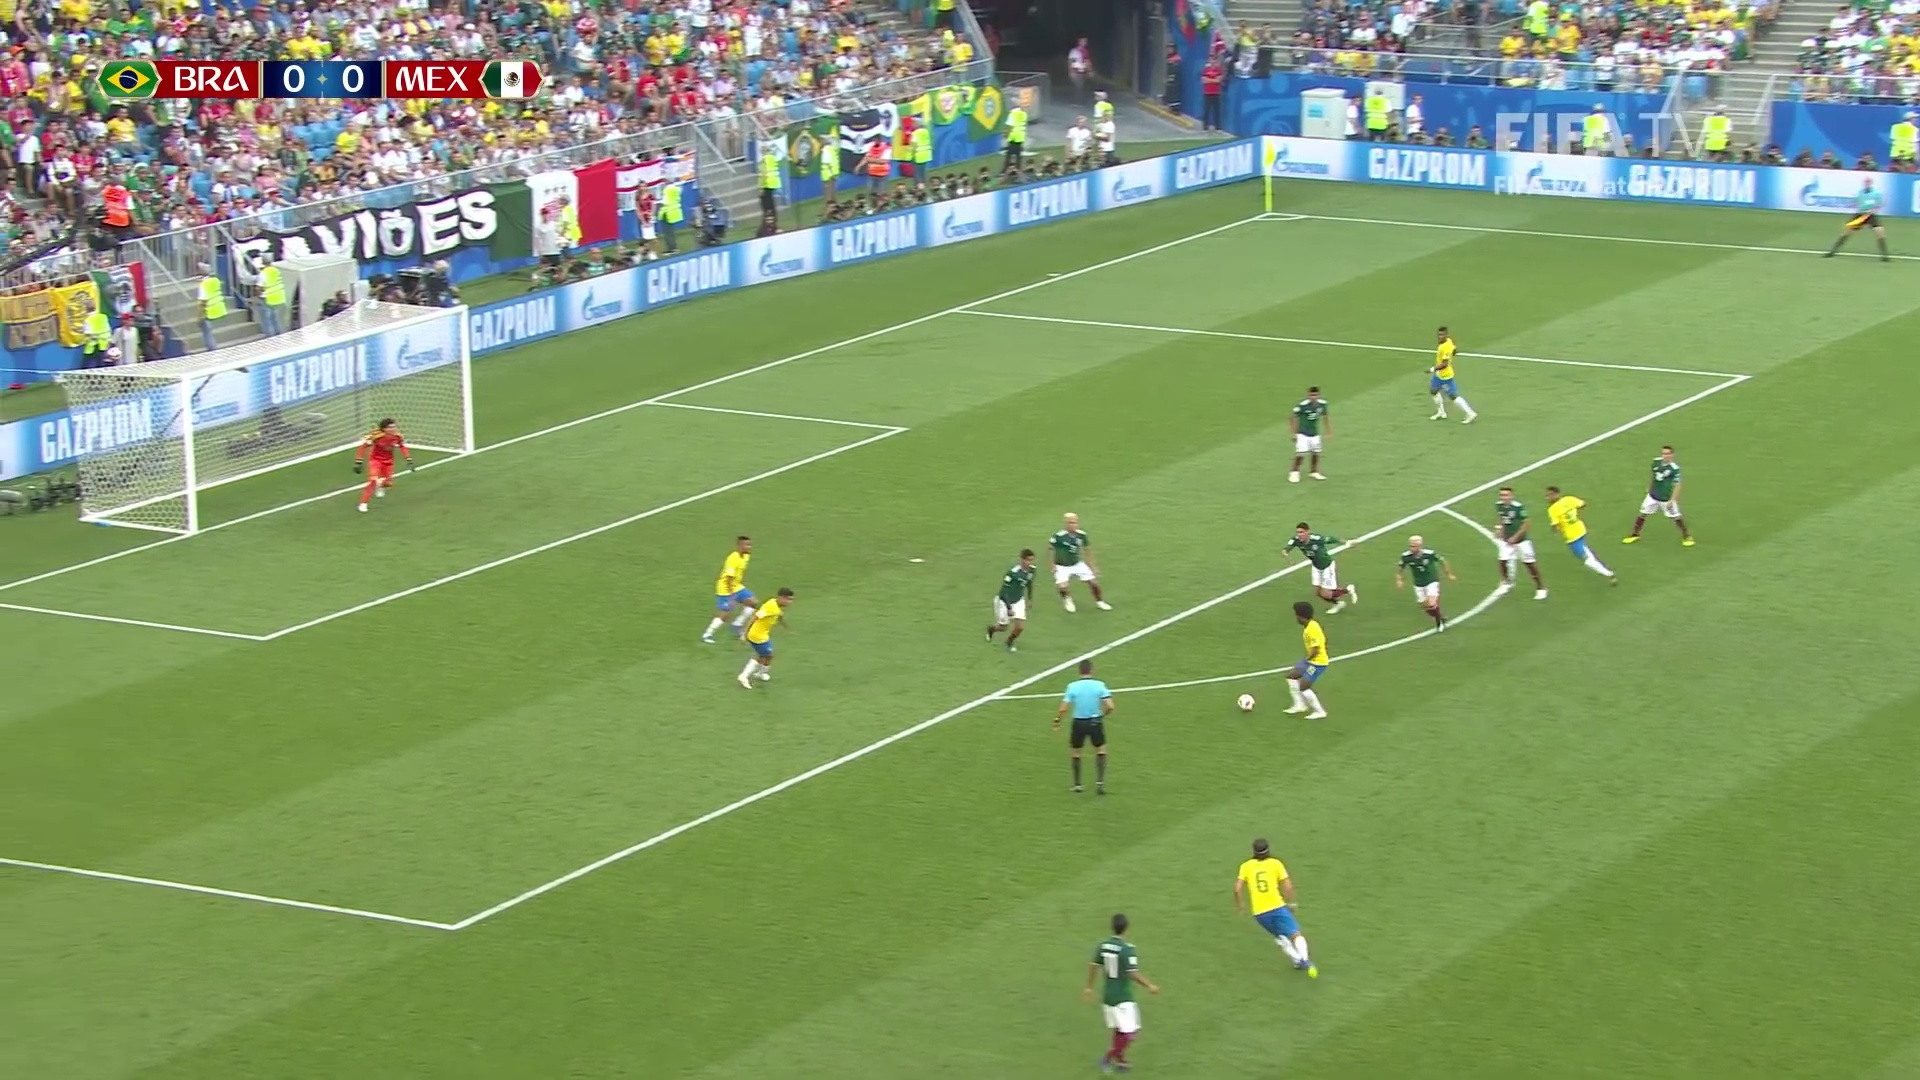ball: (1237, 694, 1254, 711)
person: (1084, 915, 1158, 1076), (1235, 840, 1312, 978), (1543, 487, 1617, 590), (1624, 444, 1693, 549), (1283, 523, 1355, 618), (1048, 510, 1111, 609), (1491, 485, 1544, 604), (353, 418, 417, 511), (1395, 535, 1455, 633), (1282, 605, 1330, 719), (743, 586, 794, 690), (1427, 328, 1479, 424), (989, 547, 1034, 653), (711, 535, 755, 639), (1288, 385, 1331, 482)
